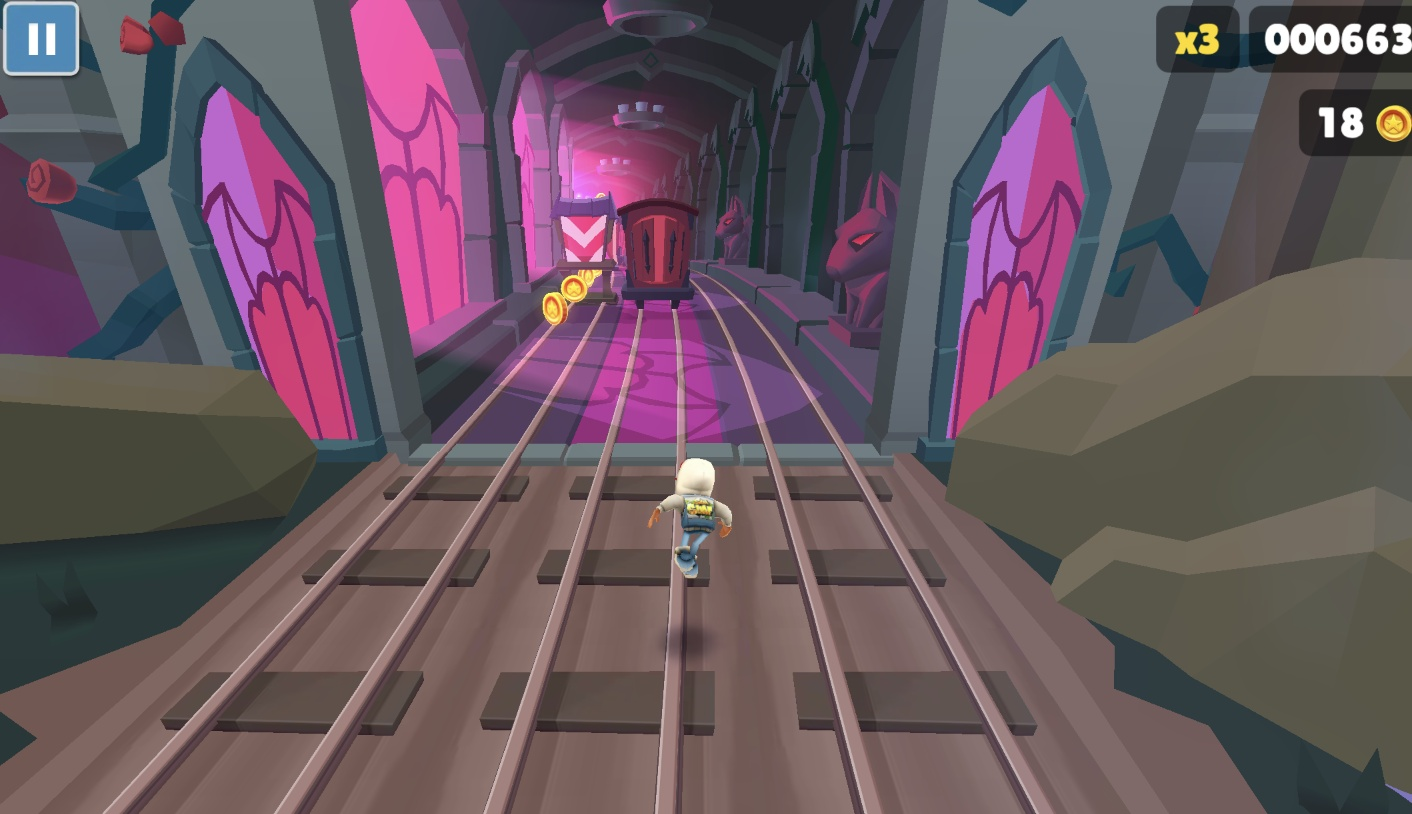overhead_barrier: (550, 205, 618, 316)
train: (609, 208, 701, 319)
